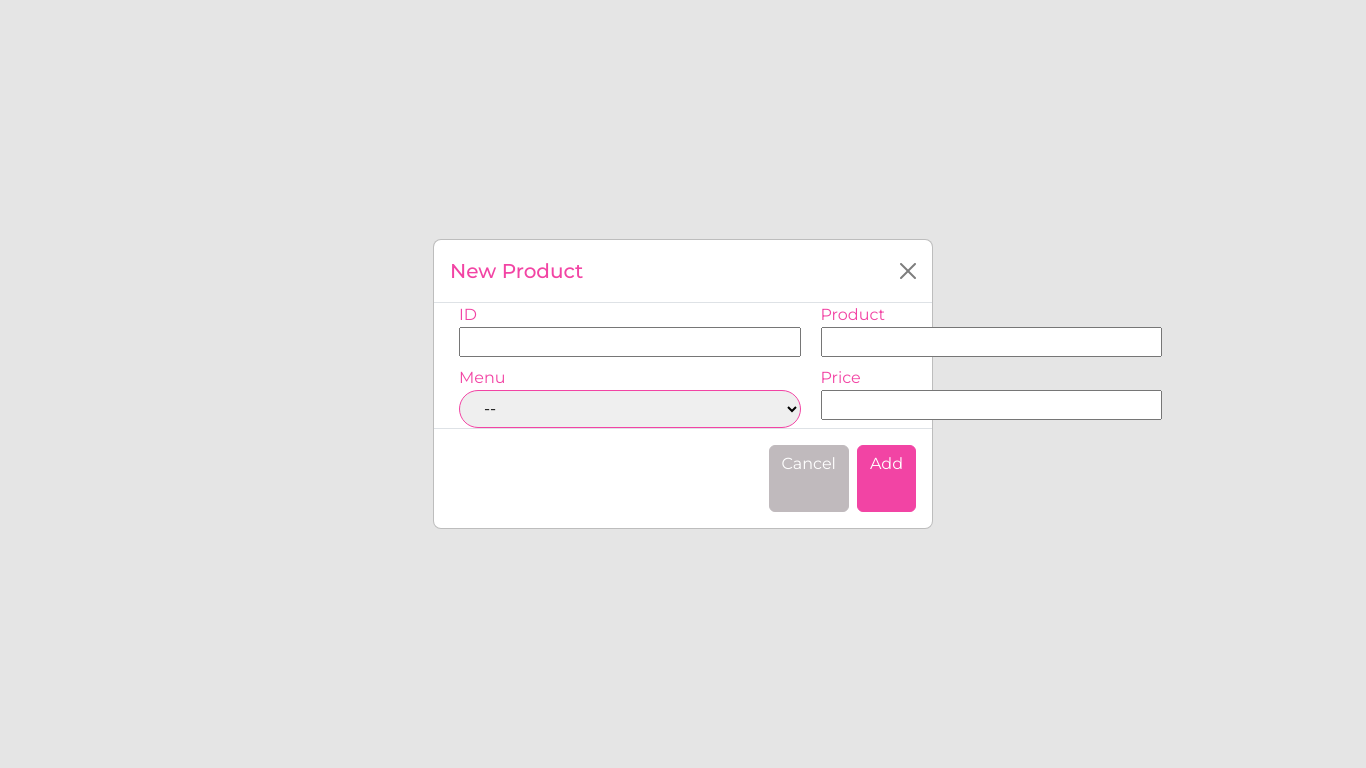
it: AddProduct Component › should handle error when adding a product with duplicate ID
Type "product123" into the field with test id "id_product" at [630, 342], box [459,327,800,357]
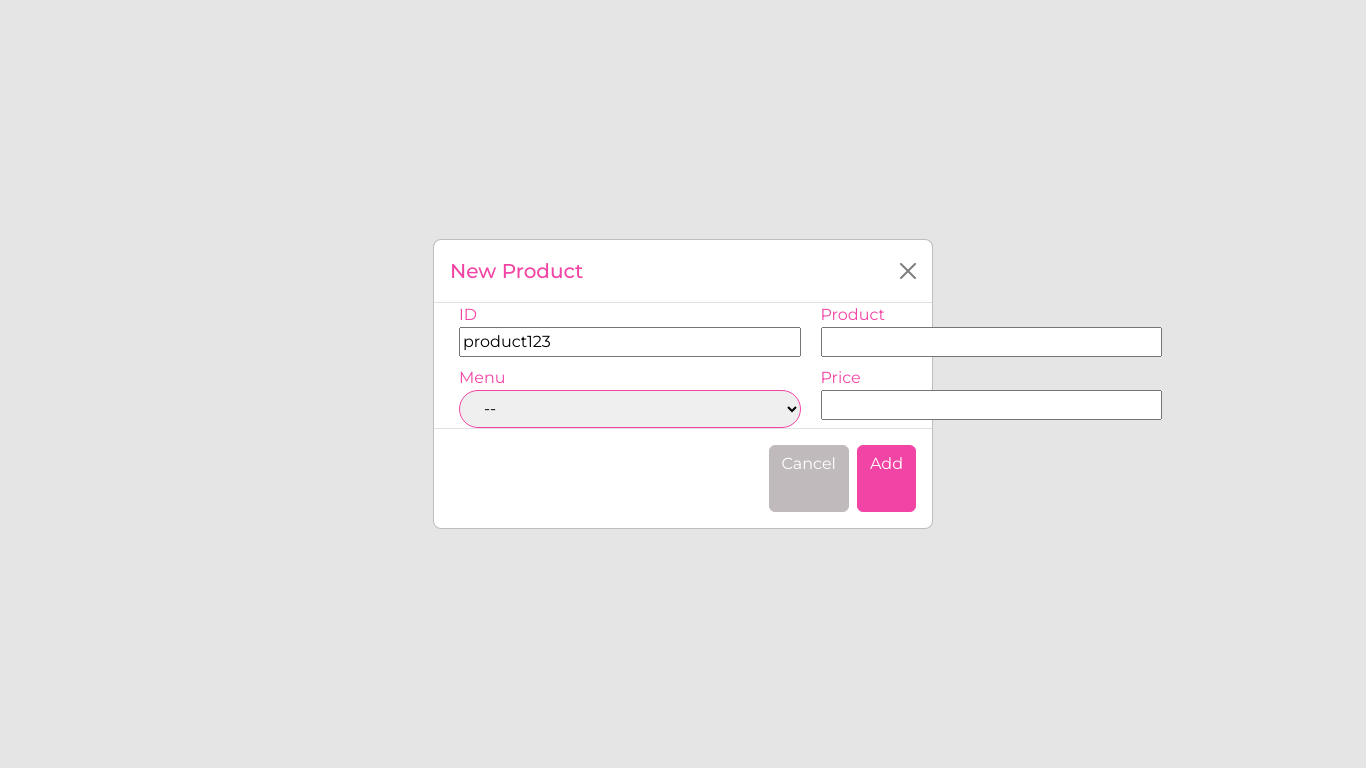
Type "New Product" into the field with test id "name_product" at [991, 342], box [820,327,1162,357]
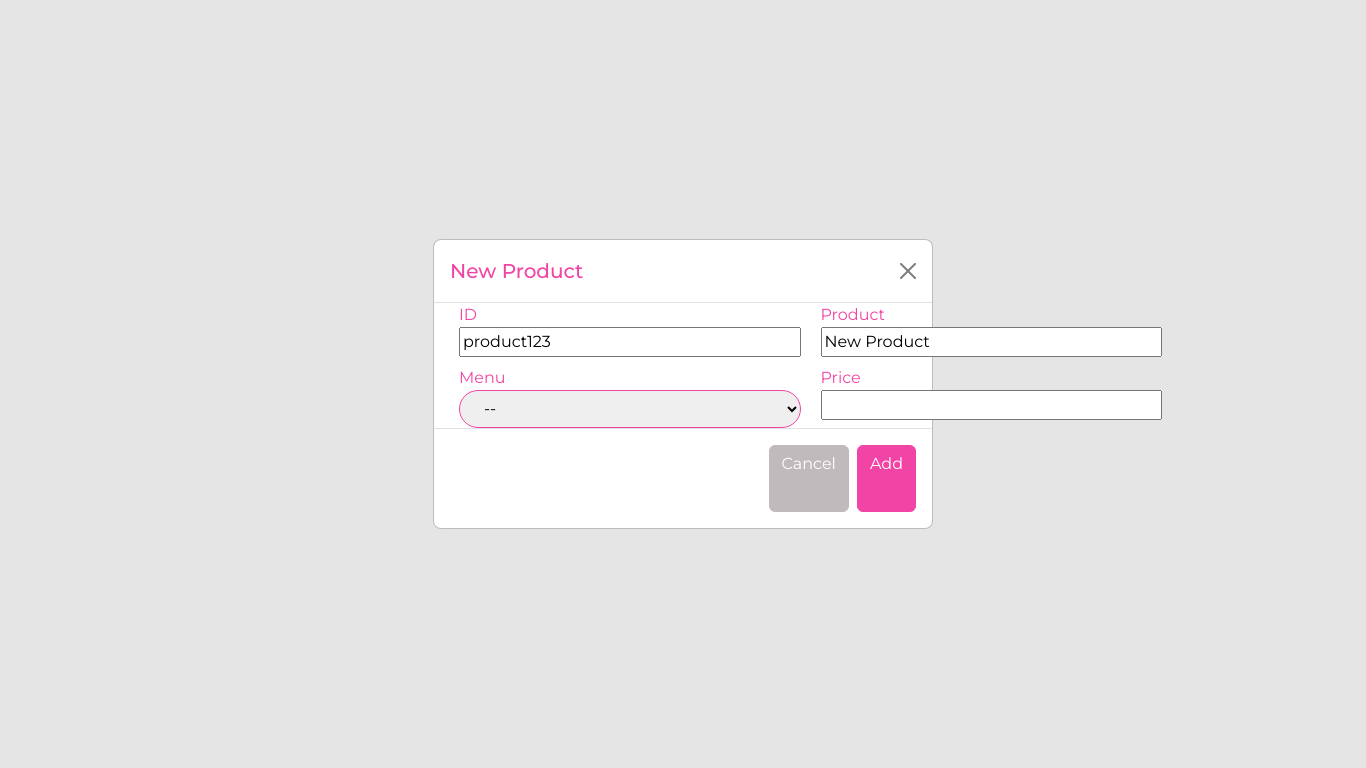
Select "Breakfast" in the dropdown with test id "menu_product" at [630, 409], box [459,390,800,428]
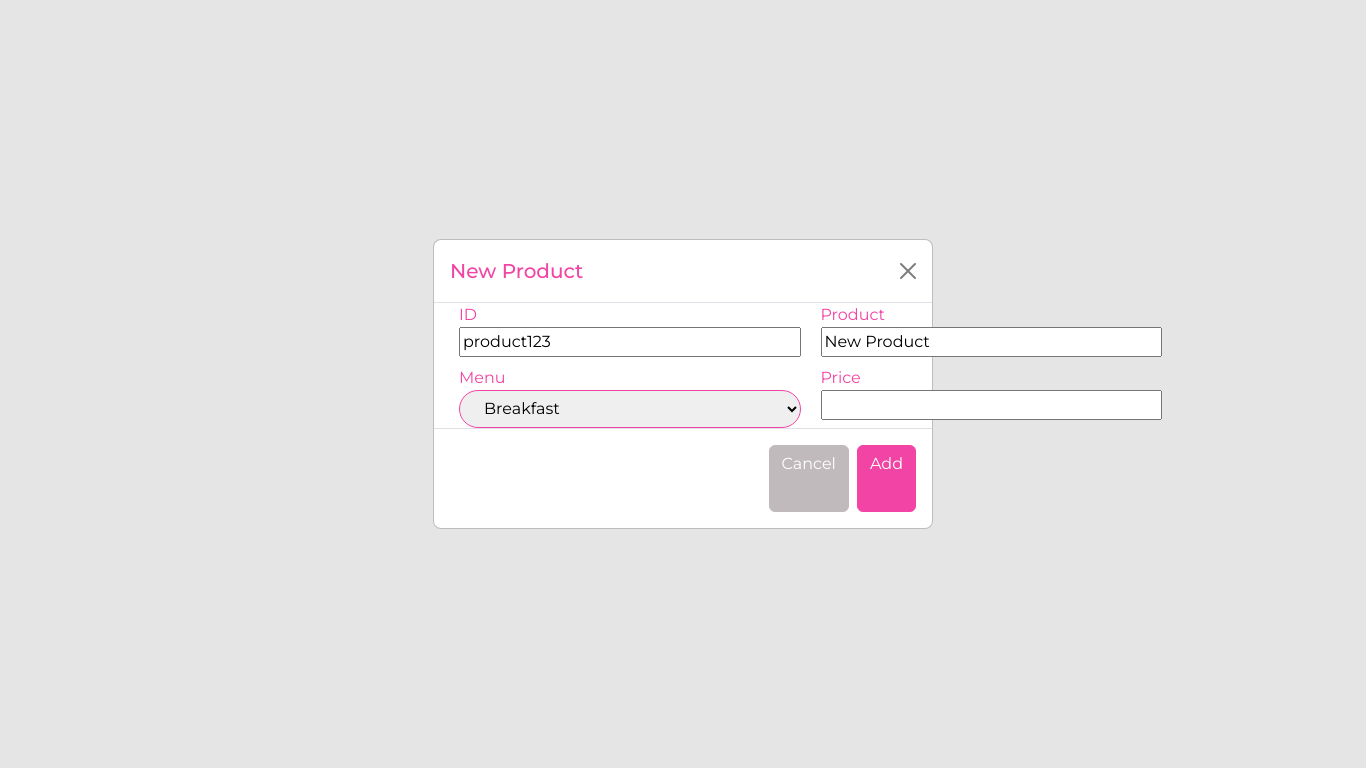
Type "9.99" into the field with test id "price_product" at [991, 404], box [820,390,1162,420]
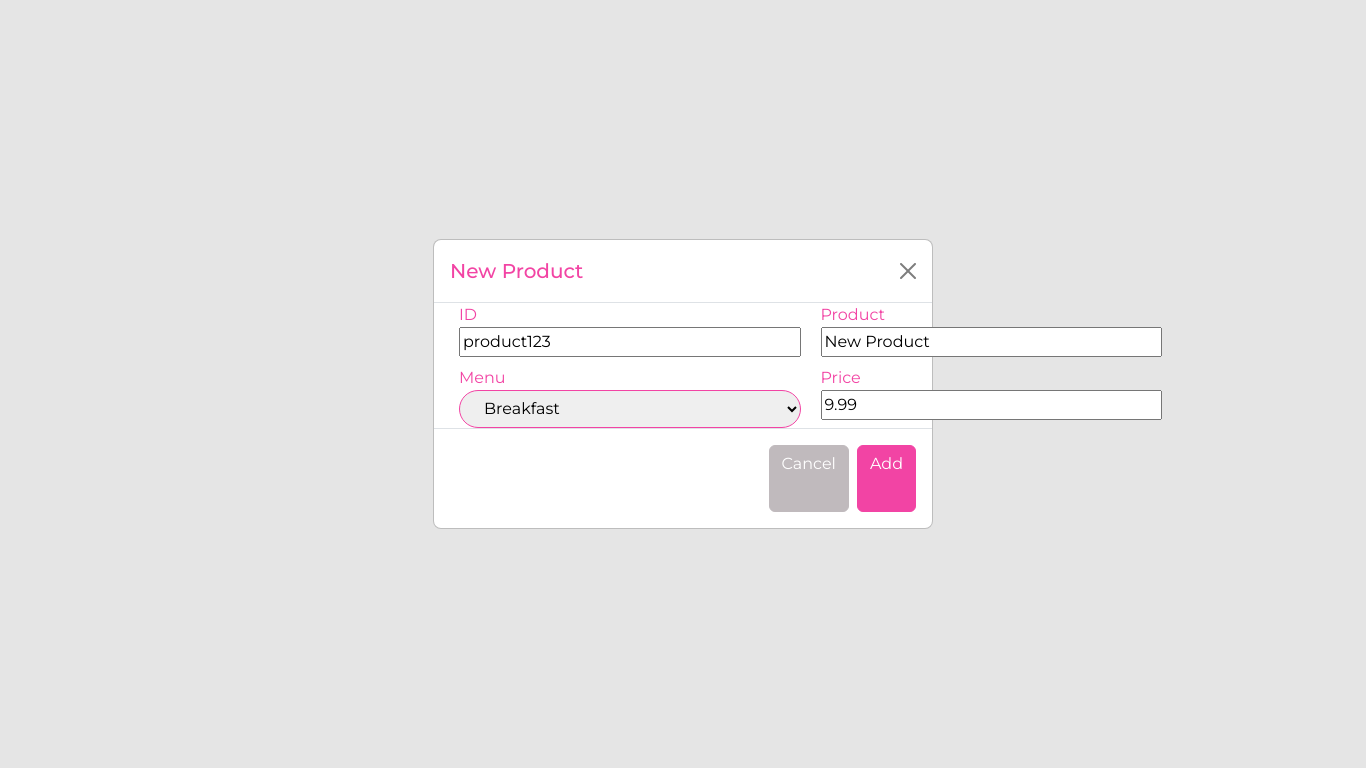
Click the button with test id "btn_modal" at [886, 478], box [857,445,916,512]
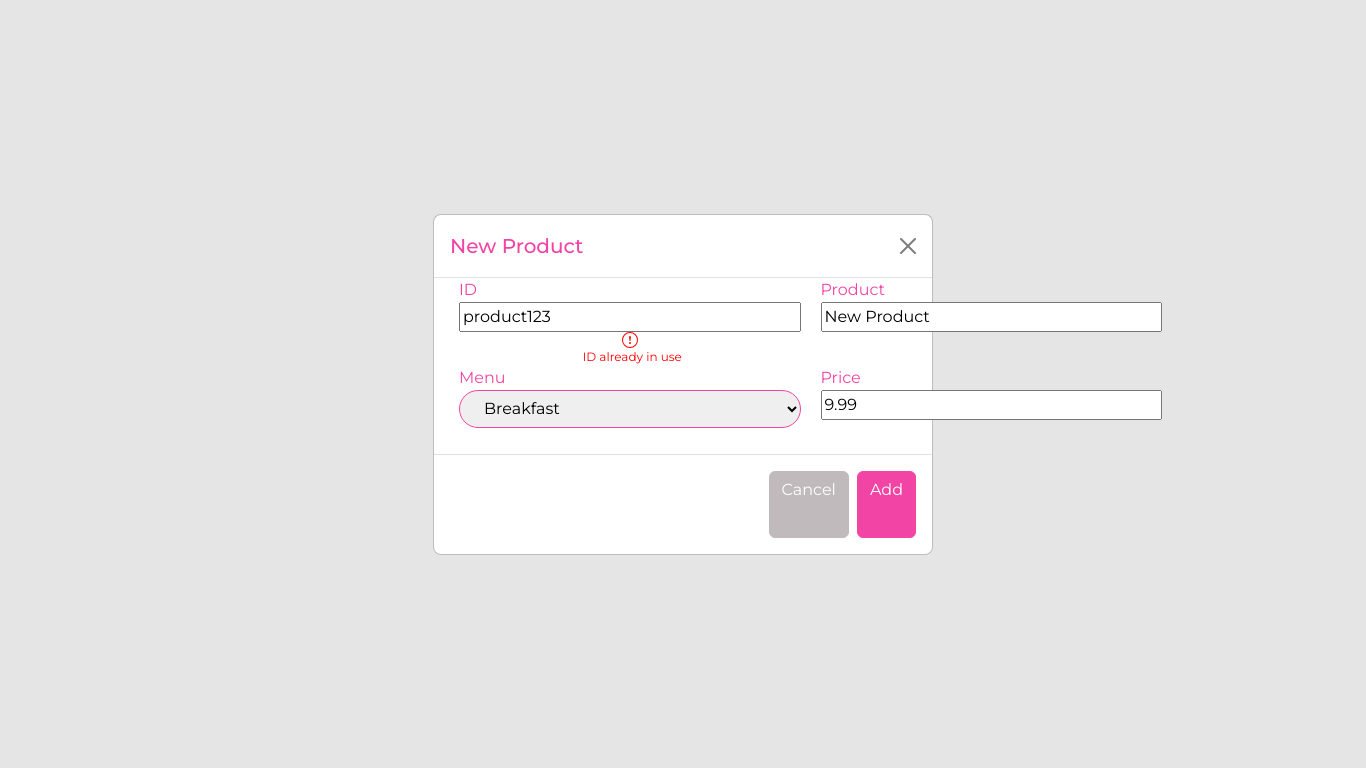
Check: the text with test id "error_message" reads "ID already in use", box [583,348,682,364]
